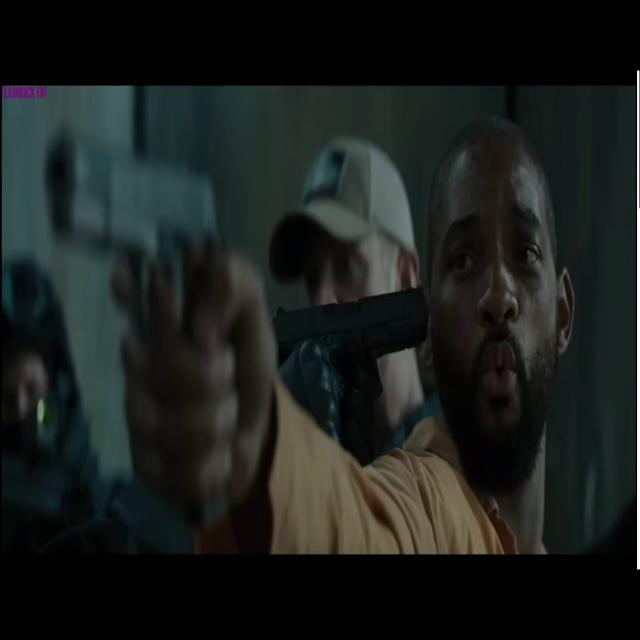weapons: (41, 125, 268, 445)
